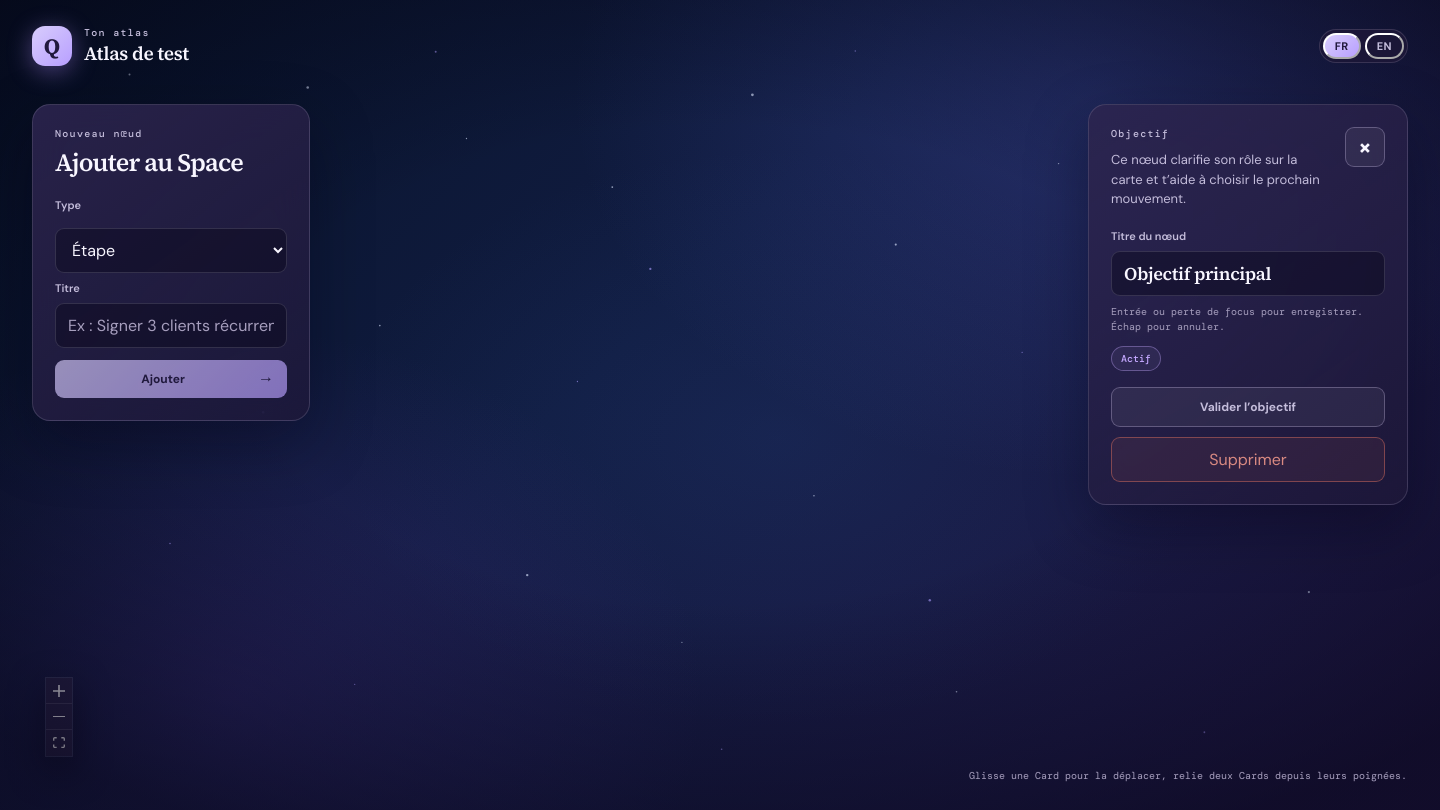
Test: SpaceCanvas inspector rename flow › shows the rename error only after a failed title save and clears it on the next draft change
Replace the text in the field labelled "Titre du nœud" with "Titre en erreur" at (1248, 273), box [1111,250,1385,296]
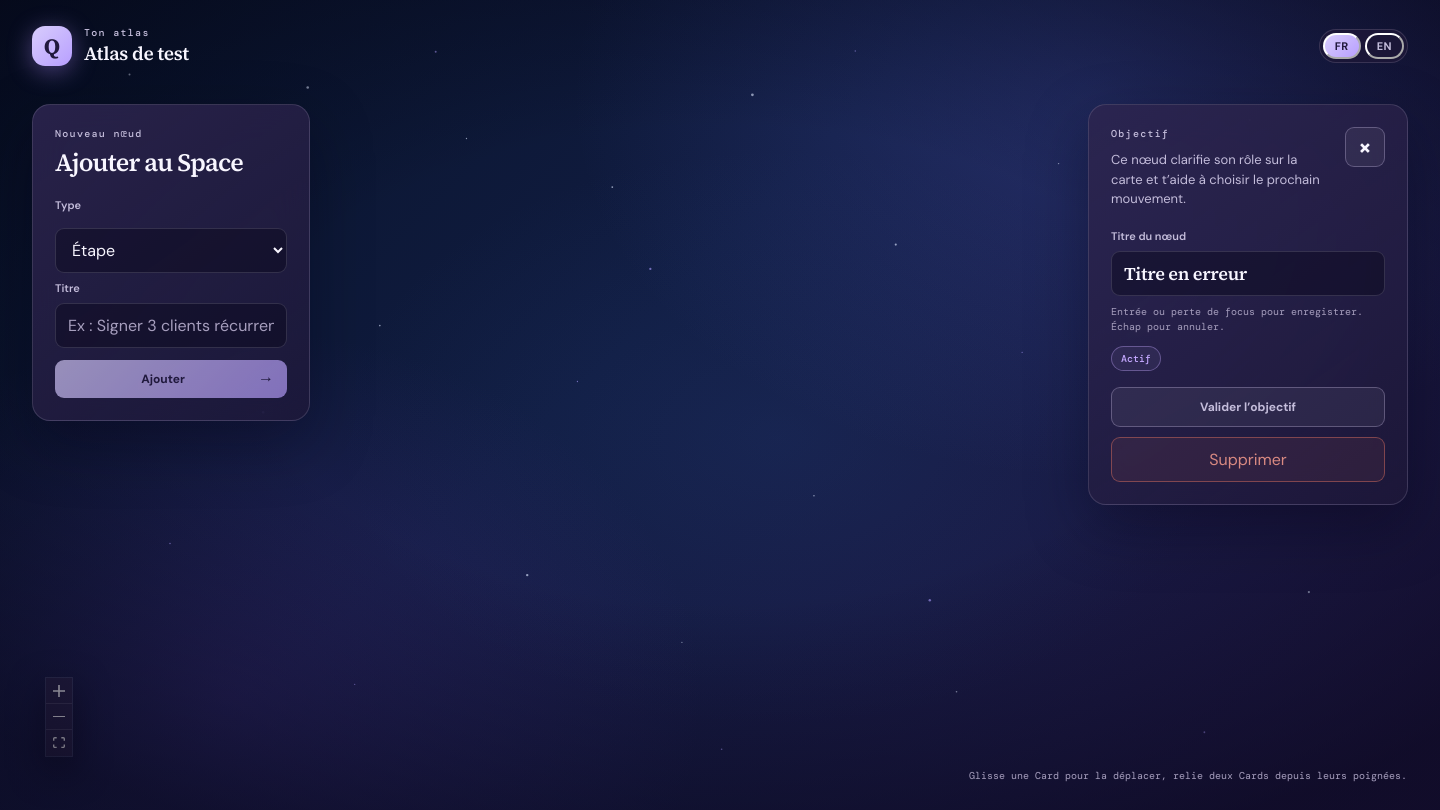
Press Enter in the field labelled "Titre du nœud", box [1111,250,1385,296]
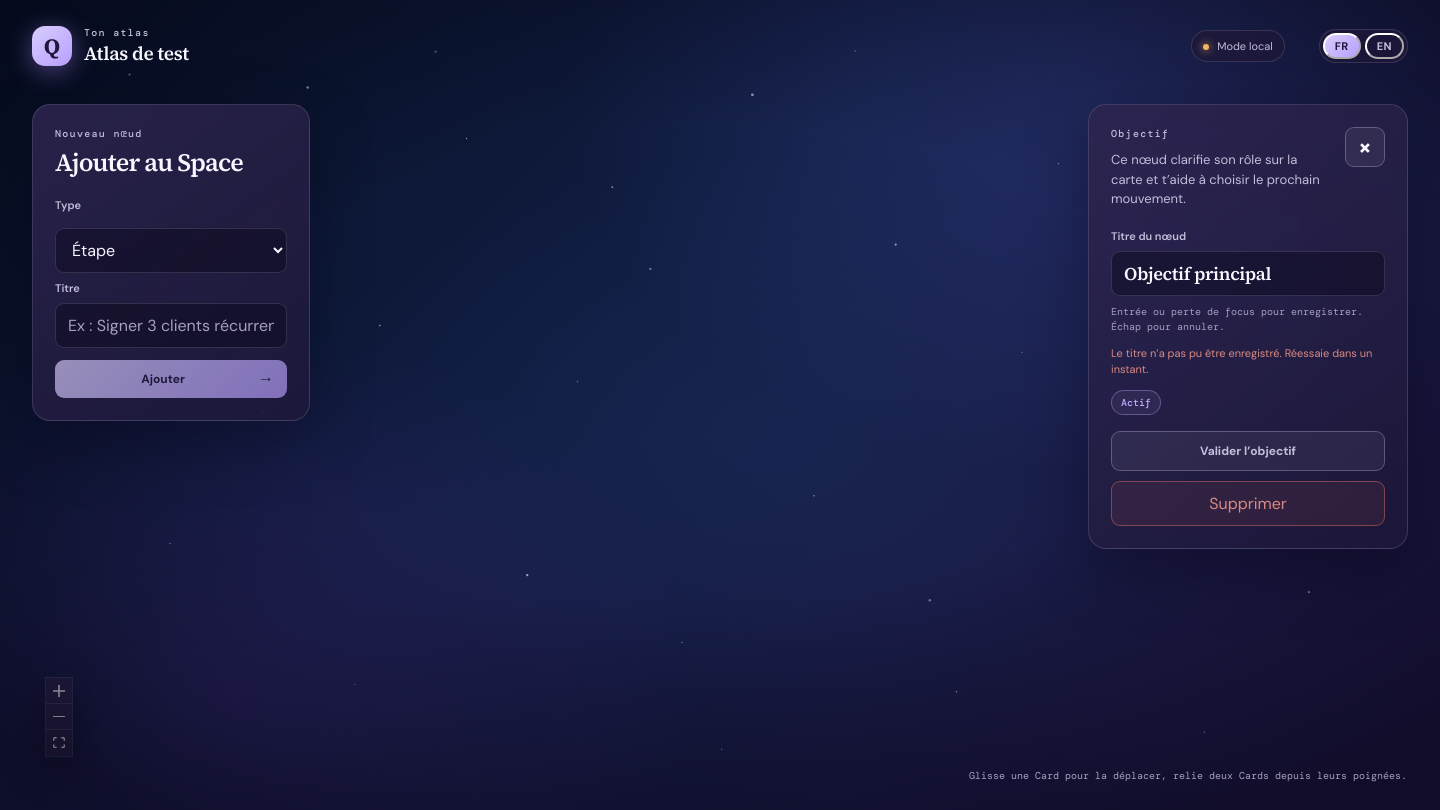
Expected: the text "Le titre n’a pas pu être enregistré. Réessaie dans un instant." is shown, [1111,346,1385,378]
Replace the text in the field labelled "Titre du nœud" with "Titre corrigé" at (1248, 273), box [1111,250,1385,296]
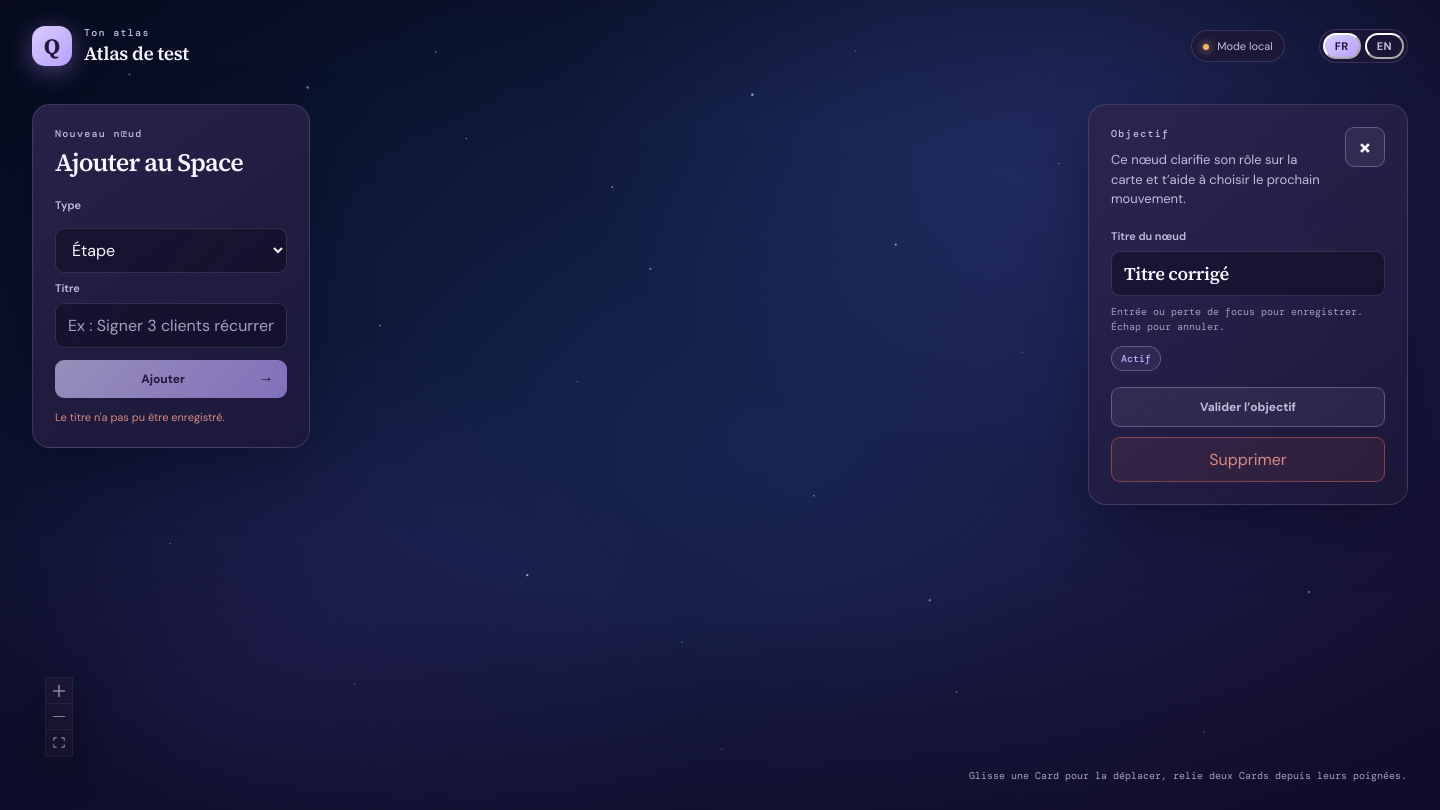
Expected: the text "Le titre n’a pas pu être enregistré. Réessaie dans un instant." is gone
